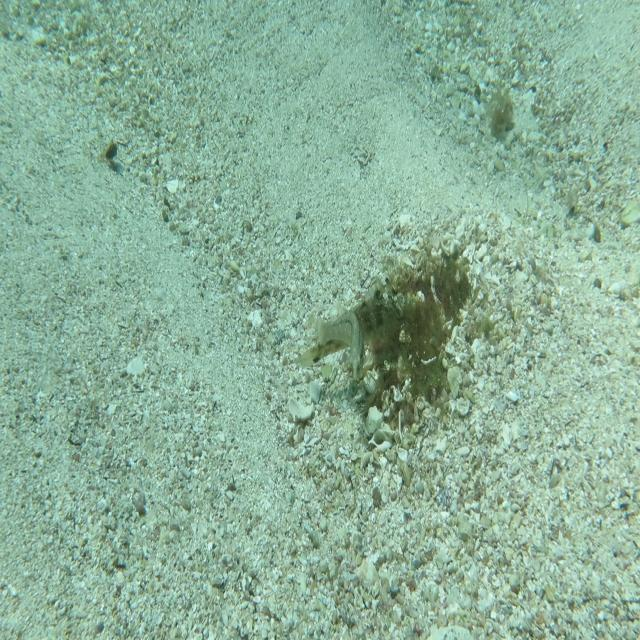LF: (292, 279, 416, 372)
female: (306, 302, 366, 381)
nest: (365, 230, 479, 421)
